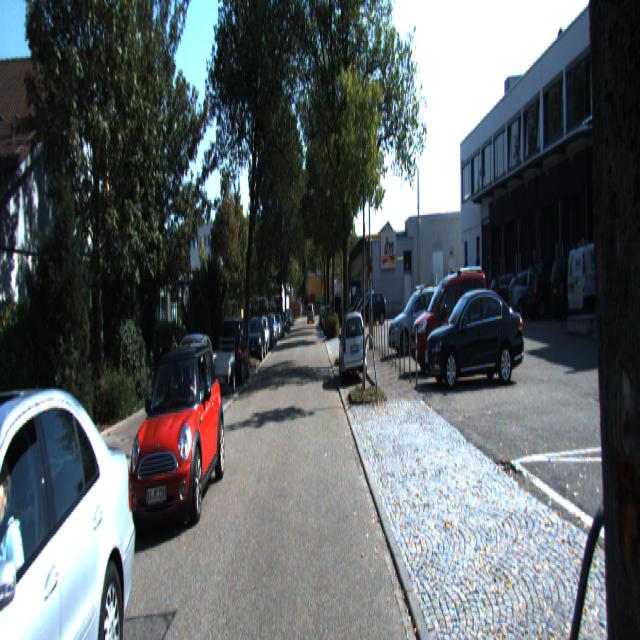Car: (0, 377, 147, 638), (127, 337, 225, 539), (422, 285, 528, 387), (410, 260, 495, 373), (565, 232, 639, 326), (164, 329, 216, 434), (388, 284, 450, 359), (338, 306, 369, 386), (220, 313, 250, 385), (208, 343, 236, 391), (246, 316, 266, 365)
